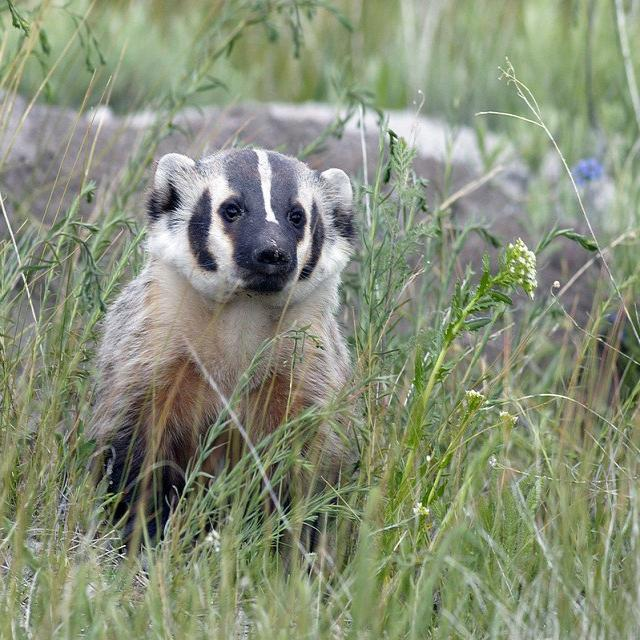Badger: (94, 143, 382, 539)
